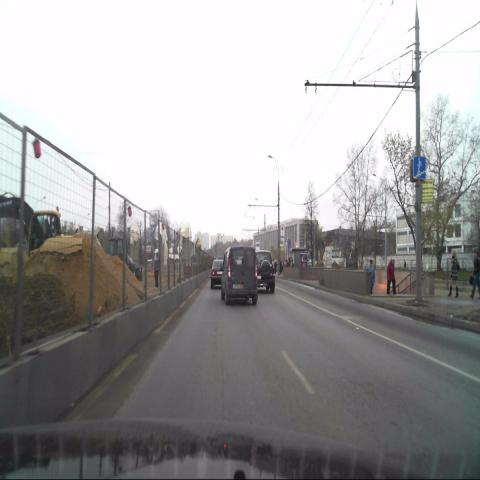6_6: (413, 158, 425, 179)
